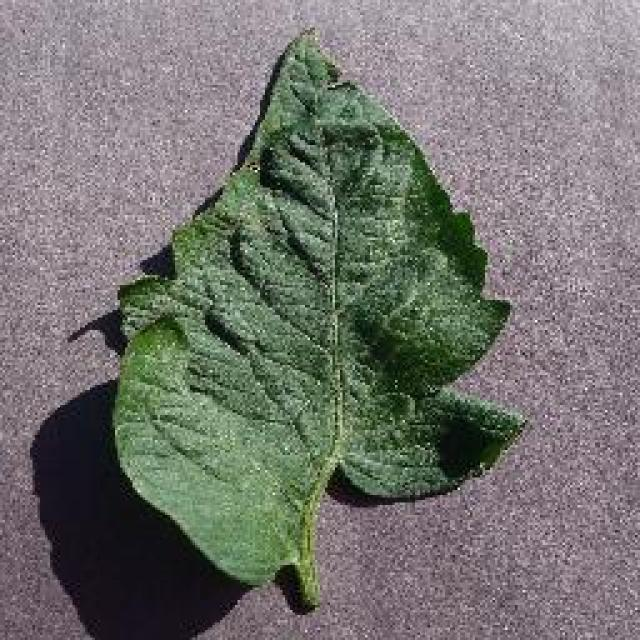Tomato Septoria spot leaf: (110, 28, 530, 588)
